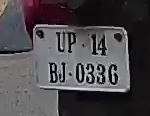0: (73, 62, 86, 86)
1: (89, 32, 98, 56)
3: (95, 62, 106, 87), (85, 62, 96, 86)
4: (97, 33, 109, 56)
6: (106, 63, 119, 84)
B: (47, 61, 59, 84)
J: (58, 61, 68, 84)
P: (66, 30, 76, 55)
U: (54, 30, 67, 53)
